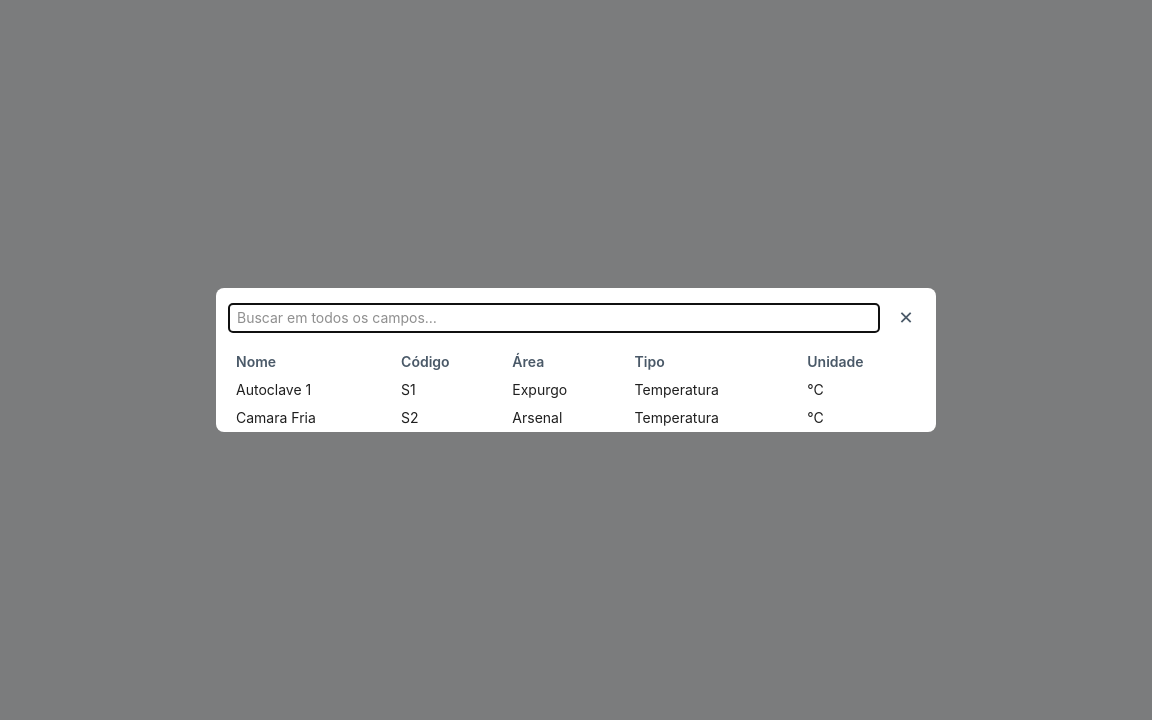
Test: SearchMoreDialog › busca casa em campo secundário (área), não só no nome
The image size is (1152, 720).
Type "arsenal" into the field labelled "Buscar" at {"x": 554, "y": 318}, box [228,303,880,333]
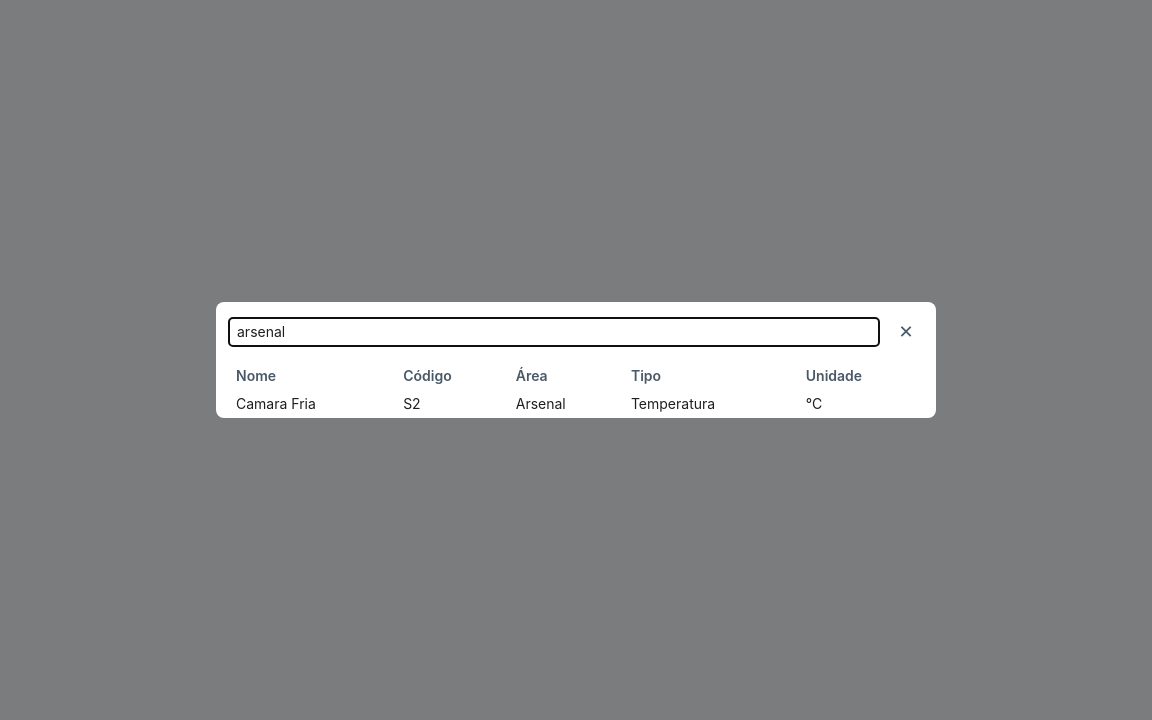
Check: the text "Camara Fria" is shown, box [228,390,395,418]
Check: the text "Autoclave 1" is gone
